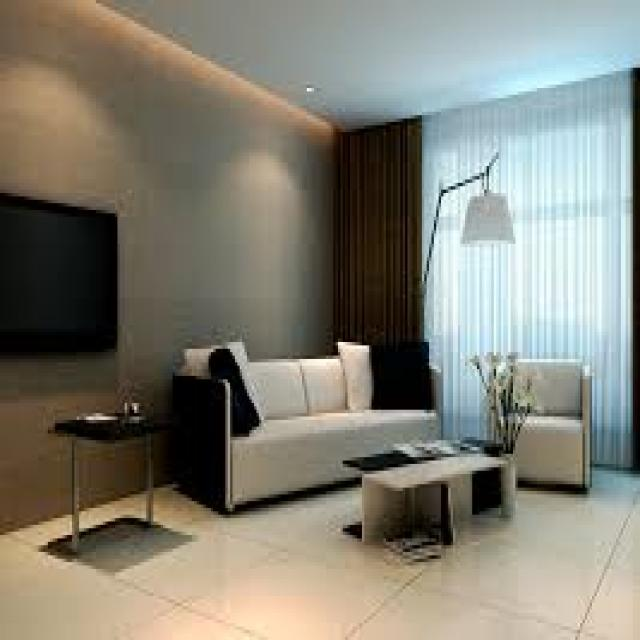Sofa: (172, 337, 444, 502), (487, 345, 597, 483)
Table: (46, 404, 168, 547), (357, 449, 517, 542)
tv: (3, 192, 123, 354)
